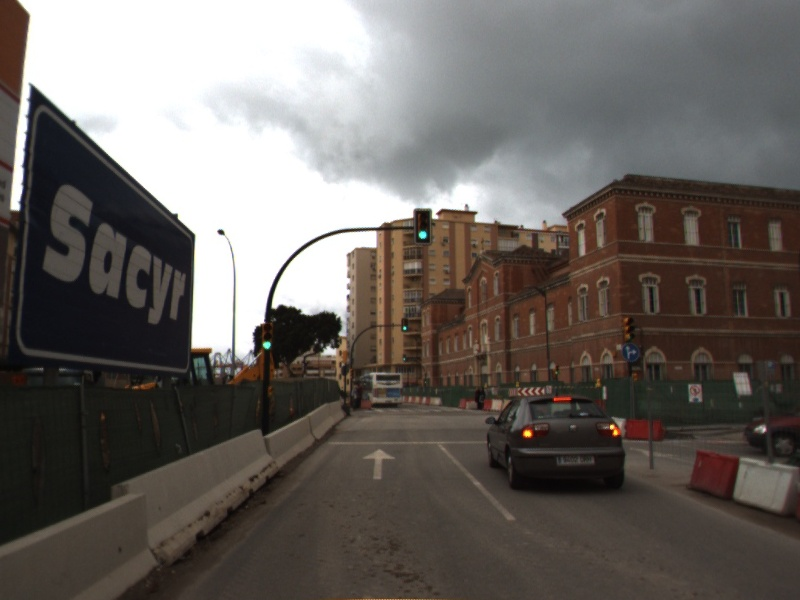STRAIGHT: (361, 447, 398, 481)
